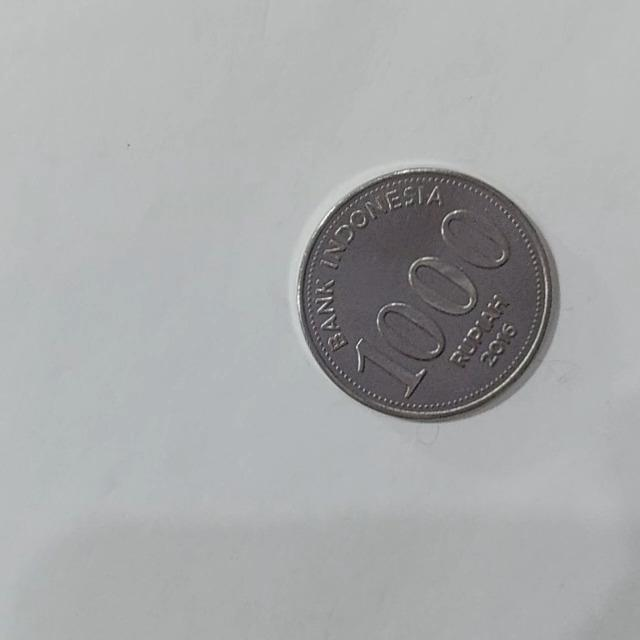Rp100: (294, 164, 556, 422)
